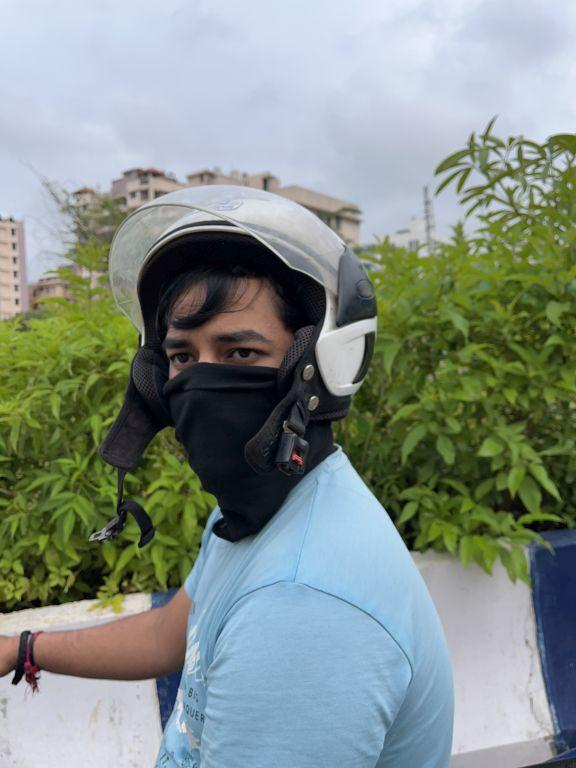helmet: (80, 180, 394, 425)
